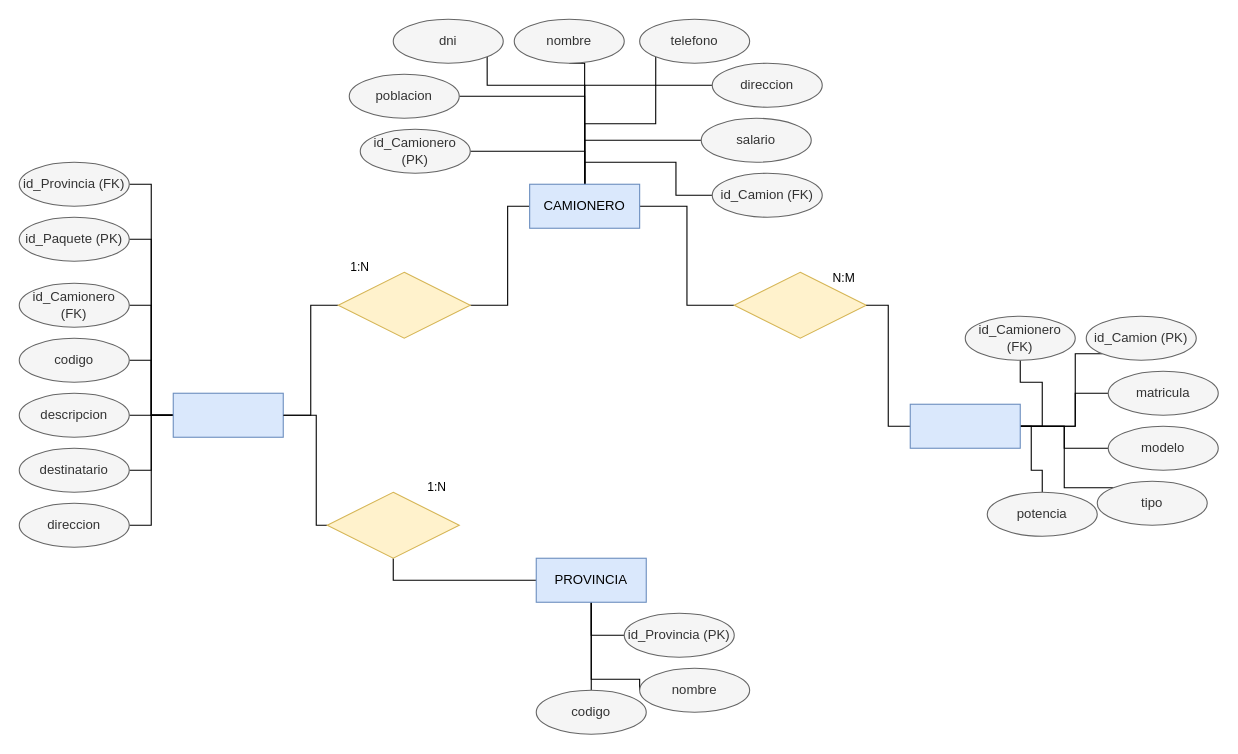
The diagram is 1238 pixels wide and 754 high, and some of its shapes have lost their labels. The shapes that lost their labels are listed below. From the top down, each one's box as (x1, y1, x2, y2) in pixels, then its label:
(337, 271, 470, 338): transporta
(733, 271, 866, 338): conduce
(172, 392, 283, 437): PAQUETE
(909, 403, 1020, 448): CAMION
(326, 491, 459, 558): llega
